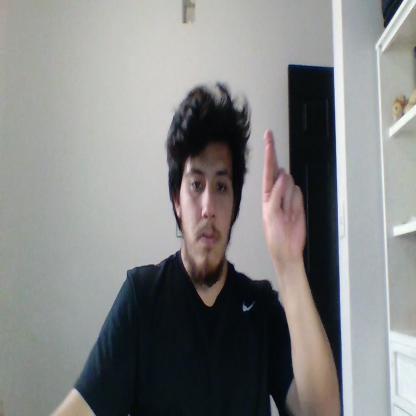R: (265, 128, 306, 261)
